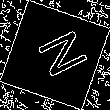N_SW: (24, 26, 86, 84)
